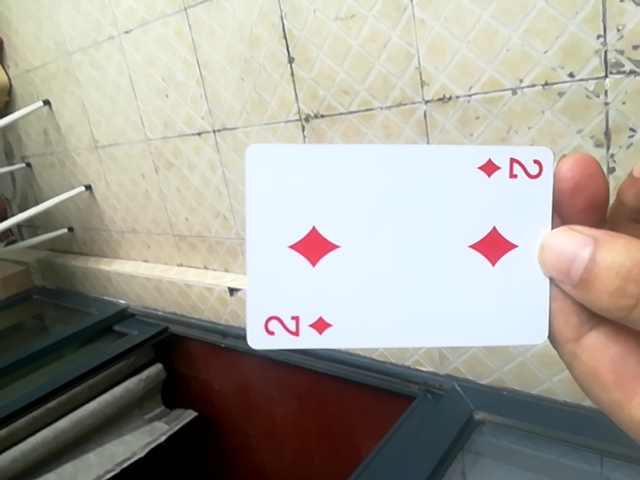fk 2: (238, 142, 555, 351)
